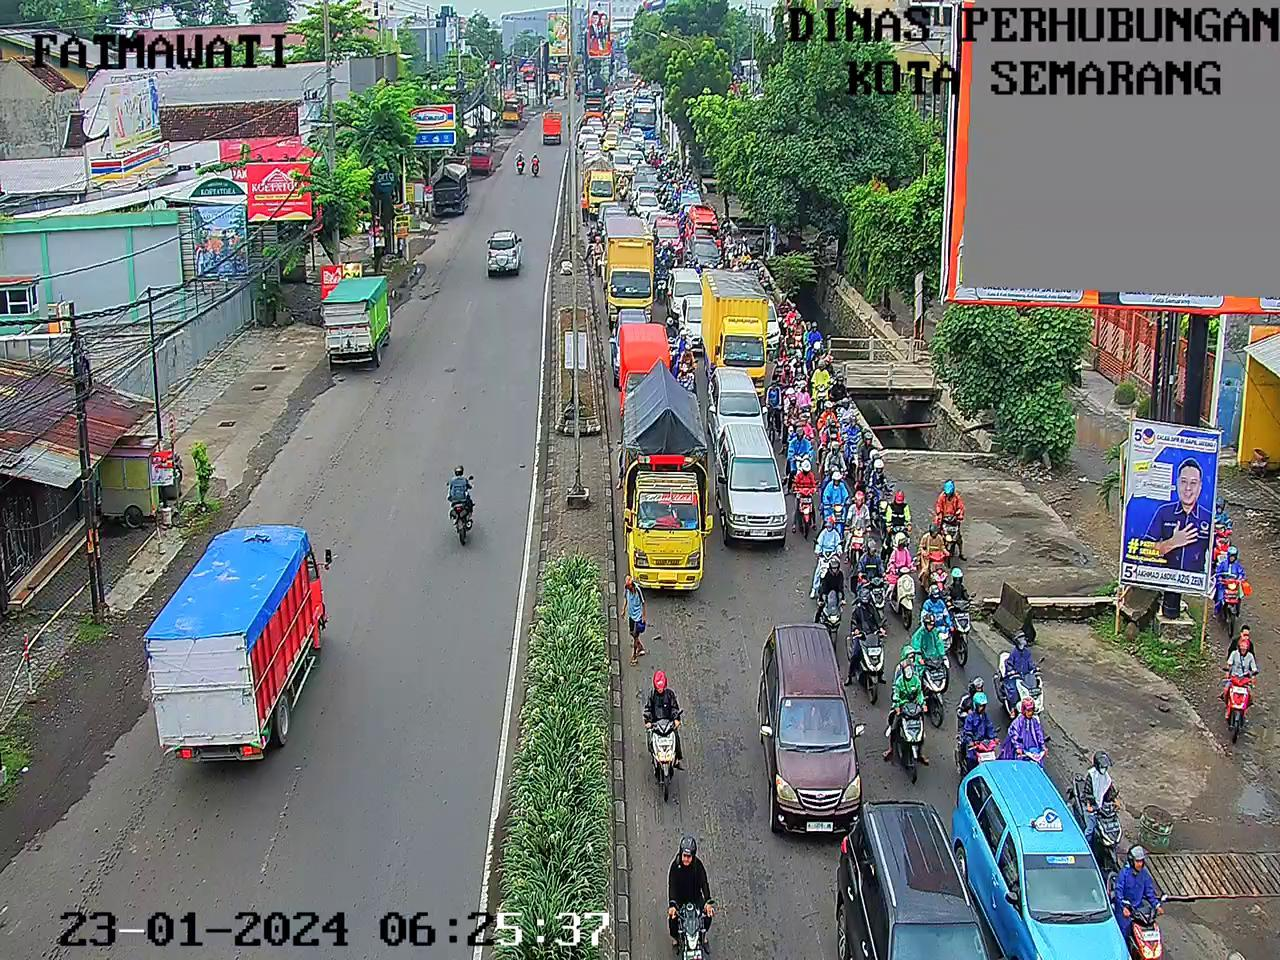bus: (635, 92, 655, 135)
car: (976, 766, 1096, 960), (760, 624, 849, 840), (854, 807, 969, 960), (727, 426, 781, 549), (618, 325, 662, 408), (712, 369, 756, 439), (613, 313, 638, 374), (687, 297, 714, 351), (671, 268, 696, 307), (692, 207, 719, 241), (689, 236, 716, 269), (658, 217, 678, 255), (767, 301, 779, 348), (638, 194, 657, 222), (649, 207, 665, 234), (680, 189, 699, 209), (610, 151, 628, 172), (588, 117, 606, 138), (631, 127, 643, 150), (643, 138, 655, 159), (585, 141, 598, 160), (605, 132, 617, 151), (634, 175, 648, 192), (630, 151, 643, 168), (639, 186, 653, 201), (580, 128, 591, 147), (612, 110, 625, 126), (585, 132, 599, 146), (622, 140, 633, 154), (618, 133, 629, 146), (607, 124, 617, 134), (615, 101, 623, 110), (618, 93, 626, 102), (627, 91, 633, 102), (612, 90, 618, 99), (606, 95, 612, 103)
motorcycle: (638, 656, 696, 812), (664, 831, 721, 960), (1112, 851, 1167, 960), (954, 676, 1000, 788), (891, 646, 926, 781), (1223, 616, 1257, 747), (1085, 751, 1123, 865), (1002, 633, 1048, 724), (851, 589, 884, 700), (912, 615, 944, 729), (1011, 703, 1050, 781), (886, 543, 920, 627), (926, 580, 954, 668), (937, 479, 967, 562), (819, 560, 847, 648), (1219, 551, 1247, 633), (859, 543, 887, 625), (950, 570, 976, 661), (869, 457, 898, 533), (812, 518, 841, 596), (926, 527, 953, 600), (884, 490, 911, 563), (845, 490, 870, 568), (794, 463, 818, 543), (1209, 495, 1234, 567), (827, 477, 850, 546), (789, 428, 814, 484), (860, 428, 879, 500), (824, 435, 846, 496), (846, 411, 865, 479), (822, 413, 843, 471), (794, 414, 815, 462), (818, 402, 836, 450), (655, 257, 671, 306), (666, 315, 680, 368), (837, 398, 854, 442), (676, 360, 695, 398), (815, 363, 830, 410), (834, 372, 848, 410), (794, 352, 808, 389), (798, 381, 812, 416), (773, 342, 784, 386), (763, 271, 776, 306), (680, 329, 690, 373), (794, 314, 806, 350), (592, 217, 605, 250), (787, 391, 797, 431), (664, 241, 677, 271), (782, 364, 793, 399), (777, 315, 786, 357), (595, 239, 605, 276), (784, 325, 795, 358), (586, 224, 596, 260), (617, 169, 629, 199), (809, 325, 822, 351), (817, 345, 829, 373), (785, 306, 799, 330), (724, 235, 734, 268), (740, 237, 749, 268), (653, 229, 662, 258), (778, 294, 789, 318), (682, 247, 691, 273), (629, 200, 639, 223), (680, 214, 687, 245), (648, 144, 656, 168), (673, 183, 680, 210), (733, 228, 739, 258), (757, 263, 765, 285), (672, 202, 680, 223), (694, 254, 700, 280), (660, 159, 667, 182), (656, 184, 664, 203), (666, 199, 673, 220), (721, 221, 726, 247), (657, 143, 663, 164), (669, 159, 675, 181), (684, 161, 691, 179), (693, 178, 701, 194), (662, 144, 669, 161), (752, 258, 759, 275), (666, 182, 672, 201), (676, 163, 682, 182), (628, 98, 634, 115), (683, 178, 689, 194), (625, 111, 630, 128), (629, 110, 634, 127), (622, 126, 630, 136), (606, 100, 611, 112), (633, 85, 636, 98)
truck: (630, 398, 703, 591), (709, 270, 769, 377), (608, 216, 650, 312), (585, 163, 608, 211), (586, 92, 603, 122)
